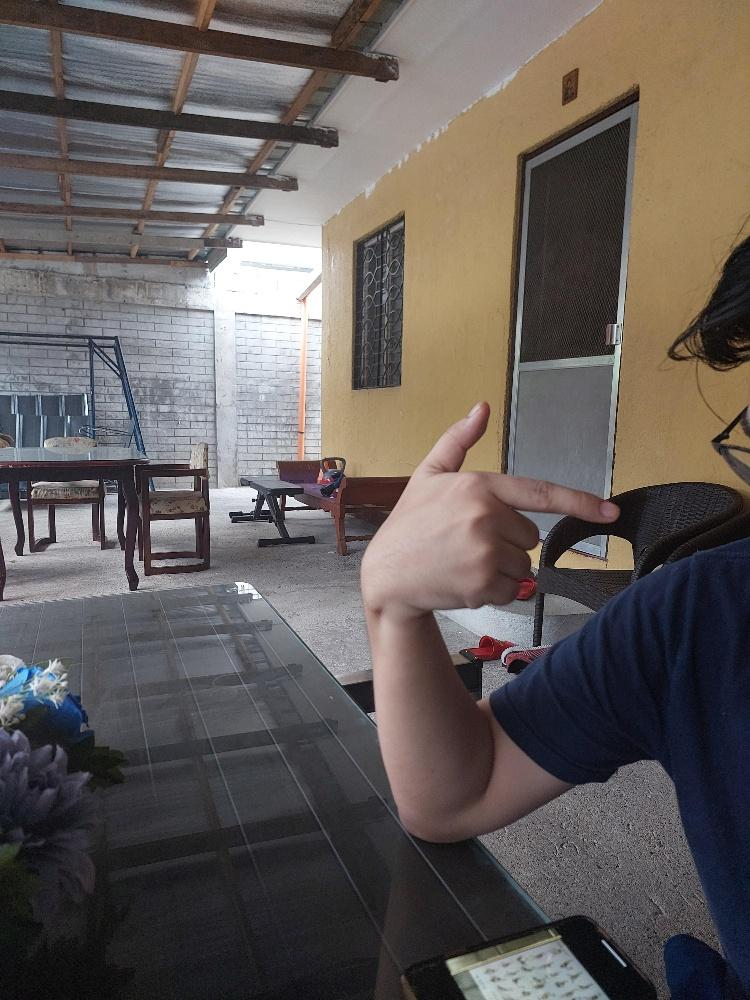g: (357, 394, 623, 616)
